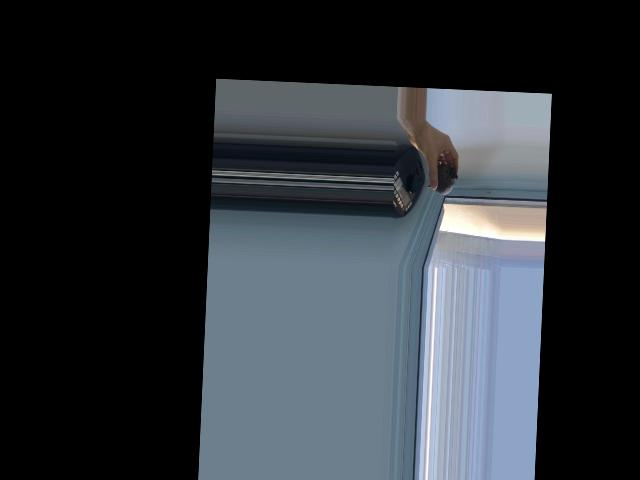beet: (426, 160, 458, 195)
